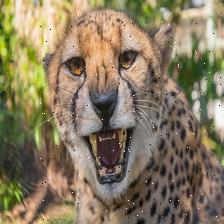Cheetha: (39, 13, 220, 224)
